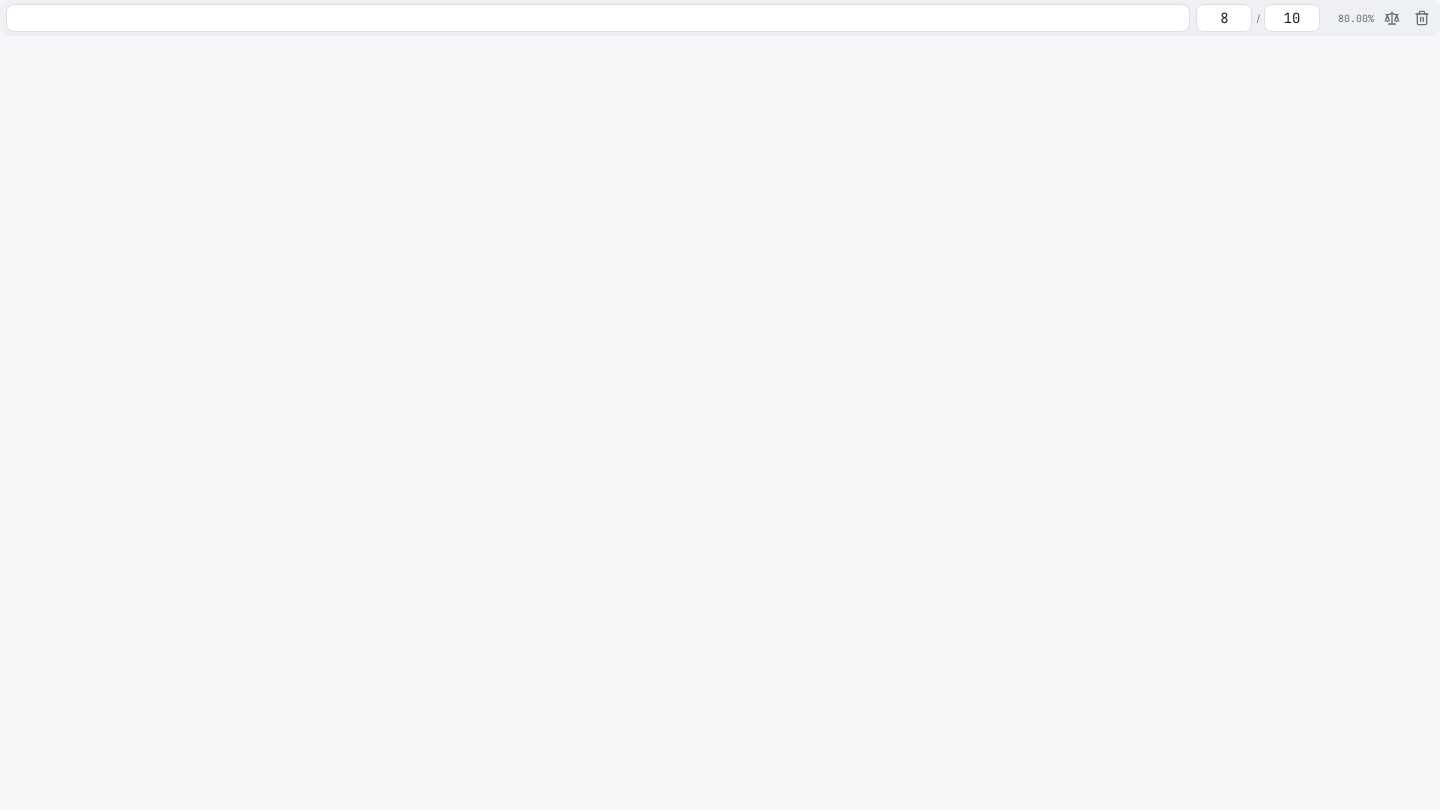
Test case: SubBreakdownRow › falls back to a generic title for an unnamed row
The image size is (1440, 810).
What coordinates should you click on to do the following:
click the button named "Delete sub-breakdown"
I would click on:
 (1422, 18)
Its box is [1410,6,1434,30].
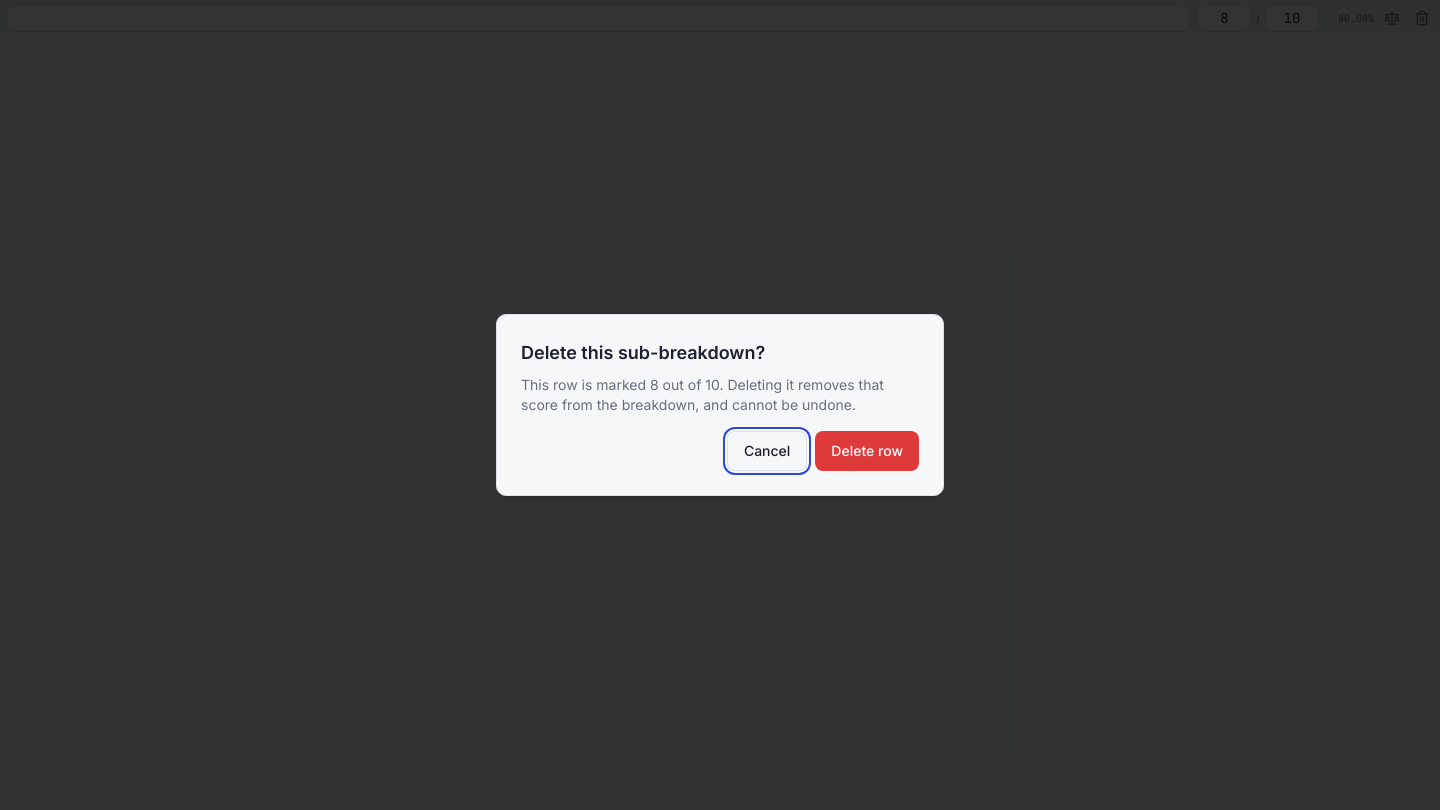
Now the heading "Delete this sub-breakdown?" is shown, box [521,342,765,363]
